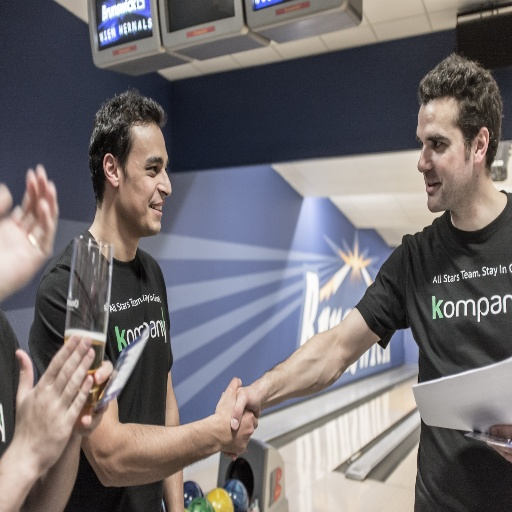hand: (10, 331, 94, 474), (0, 161, 60, 302), (222, 382, 264, 463), (72, 358, 113, 434), (484, 423, 511, 465)
